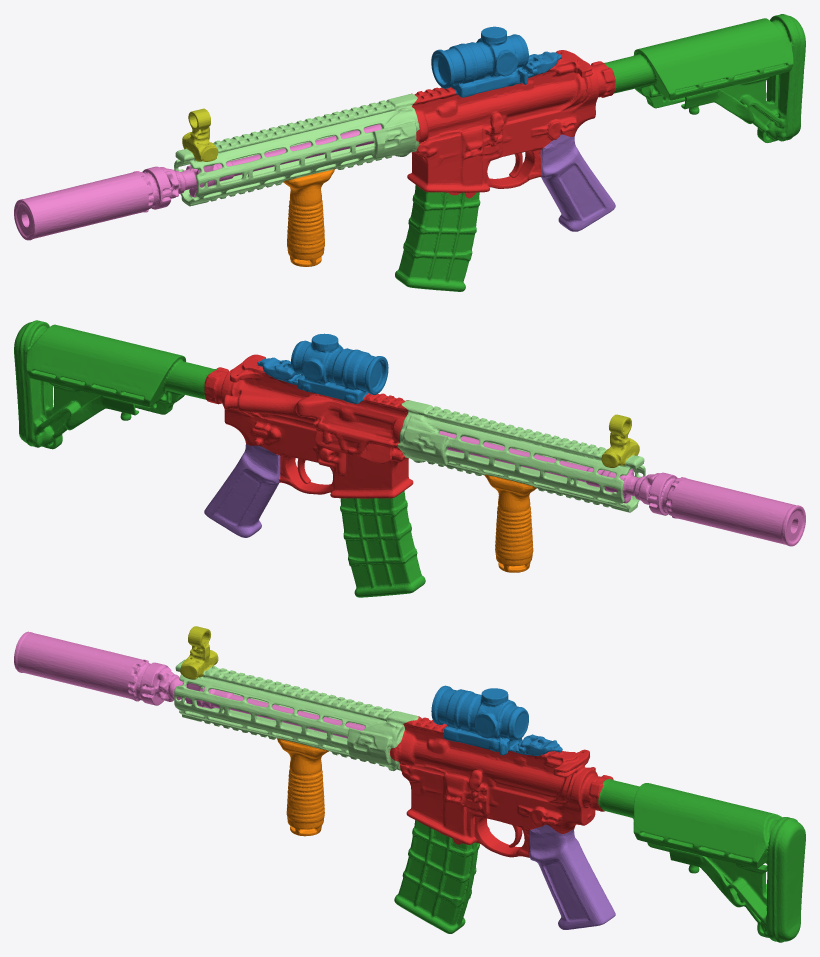
File: desert-ar15.glb
3 views of the same model, one above another, from view 1: azimuth 30°, elevation 25°; view 2: azimuth 150°, elevation 25°; view 3: azimuth 330°, elevation 25° (orthographic).
Parts seen in each view (by area): view 1: model_part9, model_part6, model_part1, model_part0, model_part4, model_part8, model_part5, model_part3, model_part2, model_part7; view 2: model_part9, model_part6, model_part1, model_part0, model_part4, model_part8, model_part5, model_part3, model_part2, model_part7; view 3: model_part9, model_part6, model_part1, model_part0, model_part4, model_part5, model_part8, model_part3, model_part2, model_part7.
Boxes of the visible parts, left/top/right/bottom form: model_part9: left=407, top=50, right=615, bottom=198; model_part6: left=604, top=14, right=805, bottom=142; model_part1: left=174, top=94, right=419, bottom=206; model_part0: left=14, top=124, right=381, bottom=240; model_part4: left=395, top=185, right=480, bottom=291; model_part8: left=431, top=26, right=528, bottom=97; model_part5: left=540, top=134, right=615, bottom=231; model_part3: left=283, top=168, right=335, bottom=266; model_part2: left=182, top=108, right=218, bottom=161; model_part7: left=522, top=51, right=561, bottom=77; model_part9: left=204, top=354, right=413, bottom=498; model_part6: left=14, top=320, right=216, bottom=449; model_part1: left=397, top=400, right=645, bottom=512; model_part0: left=439, top=431, right=805, bottom=546; model_part4: left=340, top=491, right=425, bottom=597; model_part8: left=285, top=333, right=388, bottom=403; model_part5: left=204, top=443, right=280, bottom=537; model_part3: left=484, top=474, right=536, bottom=572; model_part2: left=601, top=414, right=639, bottom=467; model_part7: left=257, top=357, right=299, bottom=381; model_part9: left=390, top=716, right=613, bottom=857; model_part6: left=598, top=779, right=805, bottom=942; model_part1: left=174, top=659, right=418, bottom=771; model_part0: left=14, top=631, right=365, bottom=738; model_part4: left=394, top=820, right=479, bottom=933; model_part5: left=529, top=824, right=615, bottom=929; model_part8: left=431, top=685, right=528, bottom=755; model_part3: left=276, top=738, right=328, bottom=836; model_part2: left=180, top=626, right=218, bottom=679; model_part7: left=516, top=734, right=562, bottom=755.
Size of the model in its own units: 0.12 by 0.0364 by 0.0101.
